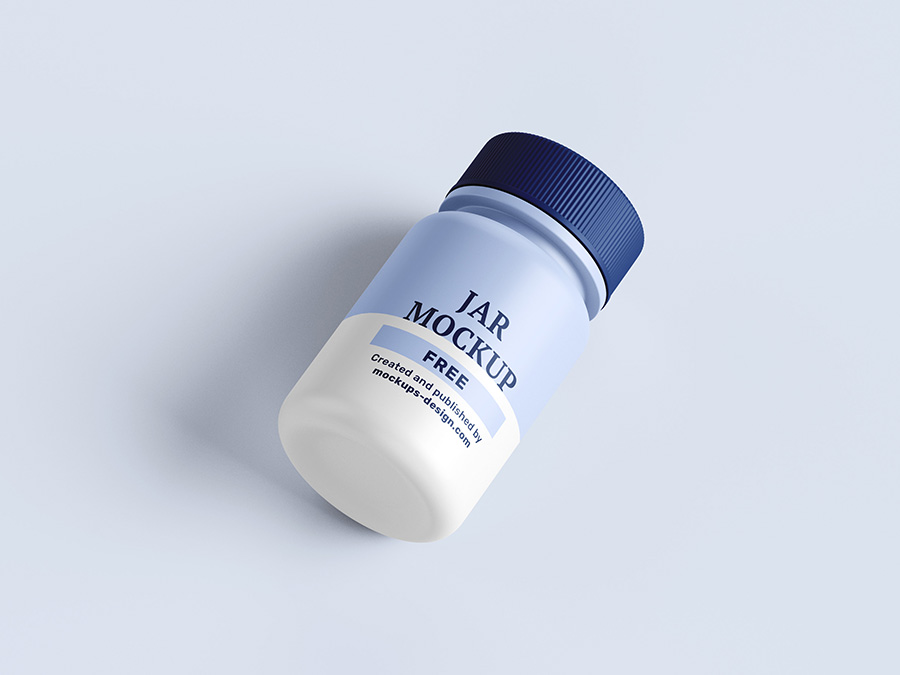Medicine: (280, 132, 662, 554)
